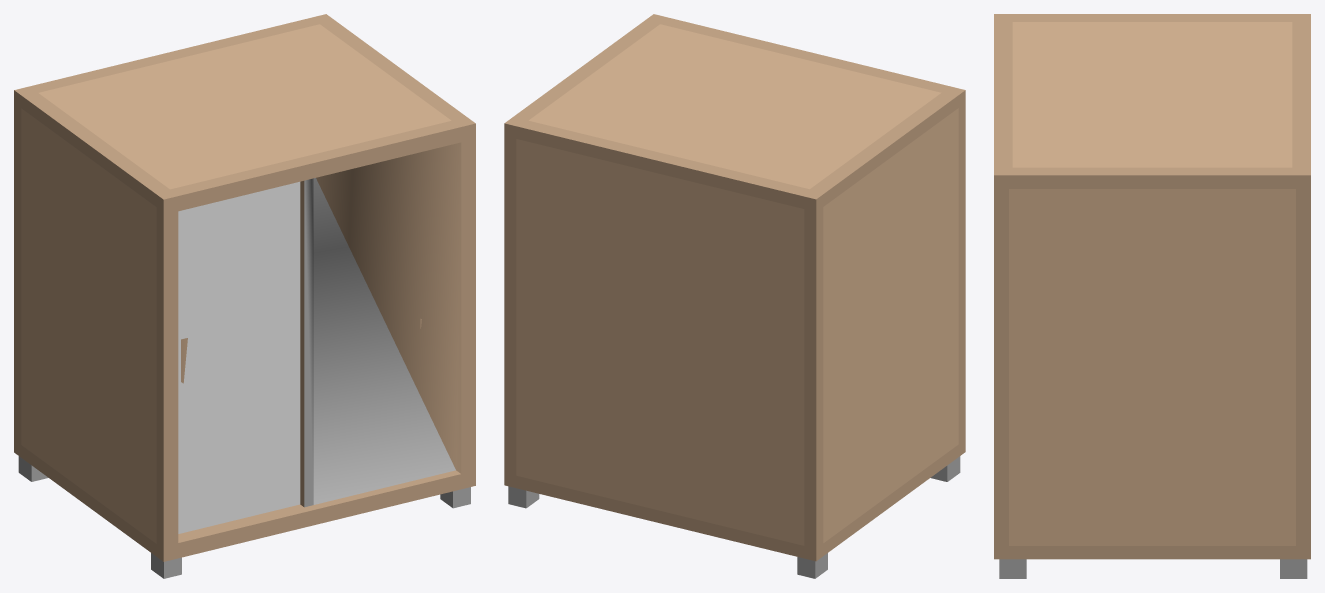
The model's file is Pedestal UV.fbx.
3 views of the same model, side by side, from view 1: azimuth 30°, elevation 25°; view 2: azimuth 150°, elevation 25°; view 3: azimuth 270°, elevation 25° (orthographic). The views are drawn at different scales.
Visible parts, largest first — view 1: Cube_1; view 2: Cube_1; view 3: Cube_1.
Part boxes in pixels (left/top/right/bottom): Cube_1: left=14, top=14, right=475, bottom=578; Cube_1: left=504, top=14, right=965, bottom=578; Cube_1: left=994, top=14, right=1310, bottom=578.
Bounding box in the file's own units: 19.41 × 22.69 × 16.11.
